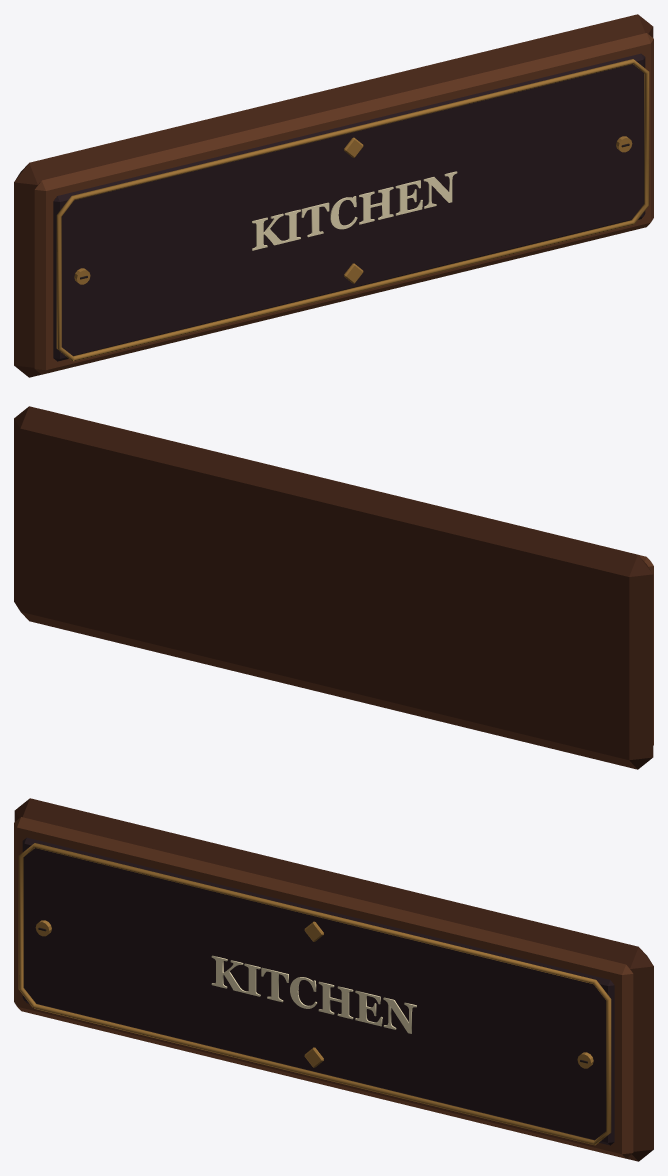
Rendered from KitchenRoomSign.glb.
The picture shows the model from 3 angles, top to bottom: view 1: azimuth 30°, elevation 25°; view 2: azimuth 150°, elevation 25°; view 3: azimuth 330°, elevation 25°; orthographic projection.
Visible parts, largest first — view 1: DarkEnamelInset.002, RaisedOakBorder.002, CarvedOakPlaque.002, BrassOutline.002, IvorySerifLettering.002; view 2: CarvedOakPlaque.002; view 3: DarkEnamelInset.002, RaisedOakBorder.002, CarvedOakPlaque.002, BrassOutline.002, IvorySerifLettering.002.
Boxes of the visible parts, <box> form: DarkEnamelInset.002: <box>53,53,645,361</box>; RaisedOakBorder.002: <box>34,33,653,374</box>; CarvedOakPlaque.002: <box>14,14,653,377</box>; BrassOutline.002: <box>56,59,649,361</box>; IvorySerifLettering.002: <box>252,171,457,250</box>; CarvedOakPlaque.002: <box>14,406,653,769</box>; DarkEnamelInset.002: <box>22,837,614,1145</box>; RaisedOakBorder.002: <box>14,817,633,1158</box>; CarvedOakPlaque.002: <box>14,798,653,1161</box>; BrassOutline.002: <box>18,843,611,1145</box>; IvorySerifLettering.002: <box>211,955,416,1033</box>.
Bounding box in the file's own units: 4.2 × 1.35 × 0.346.
